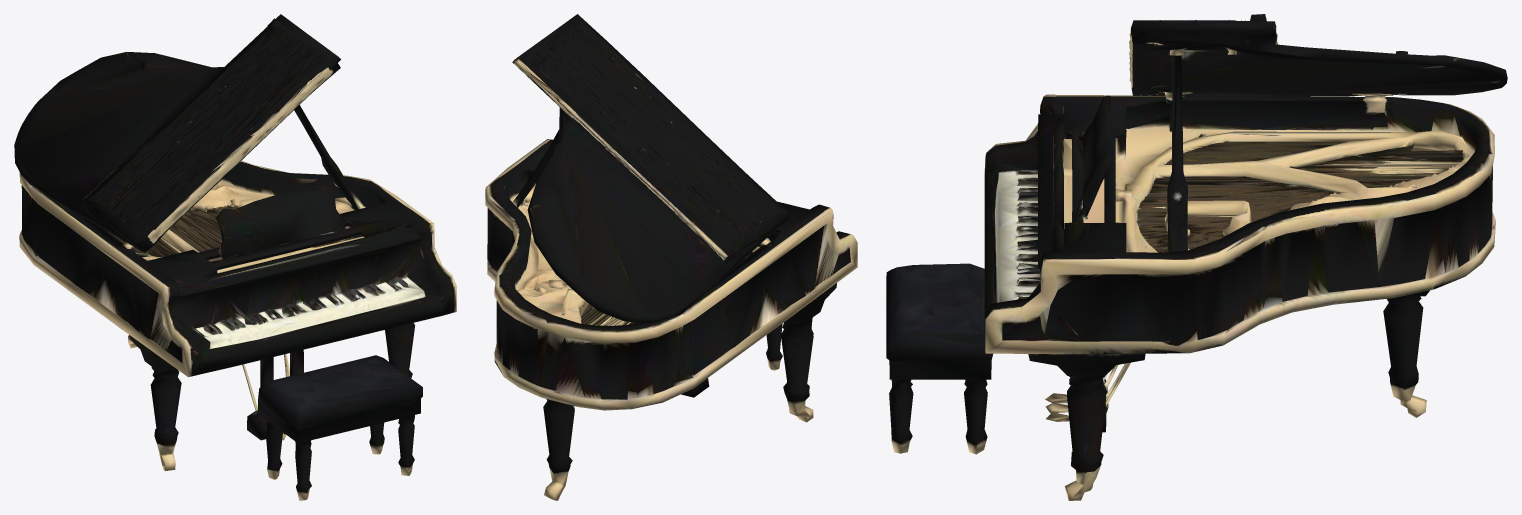
File: piano.glb
The picture shows the model from 3 angles, left to right: view 1: azimuth 30°, elevation 25°; view 2: azimuth 150°, elevation 25°; view 3: azimuth 270°, elevation 25°; orthographic projection. The views are drawn at different scales.
Visible parts, largest first — view 1: Mesh_0; view 2: Mesh_0; view 3: Mesh_0.
Boxes of the visible parts, x1,y1,x2,y2 form: Mesh_0: (14,14,456,500); Mesh_0: (485,14,857,500); Mesh_0: (886,14,1507,500).
Bounding box in the file's own units: 1.2 × 1.5 × 1.88.
Materials: 1 (1 with a texture image).
